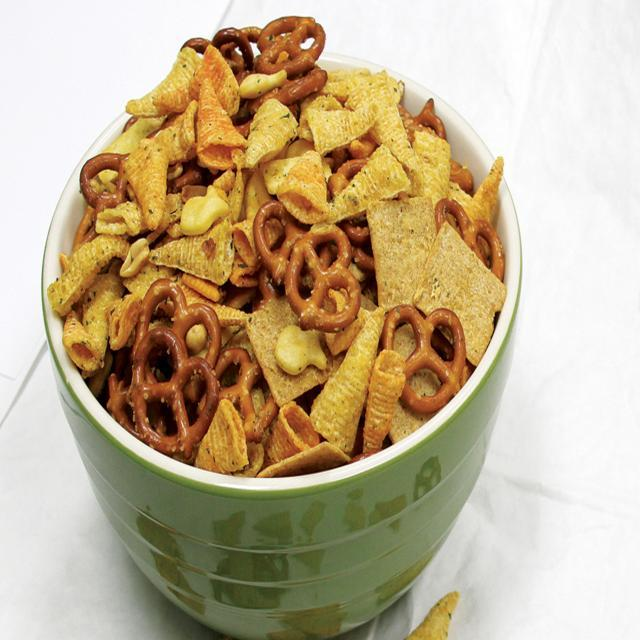Salatini: (55, 15, 519, 483)
